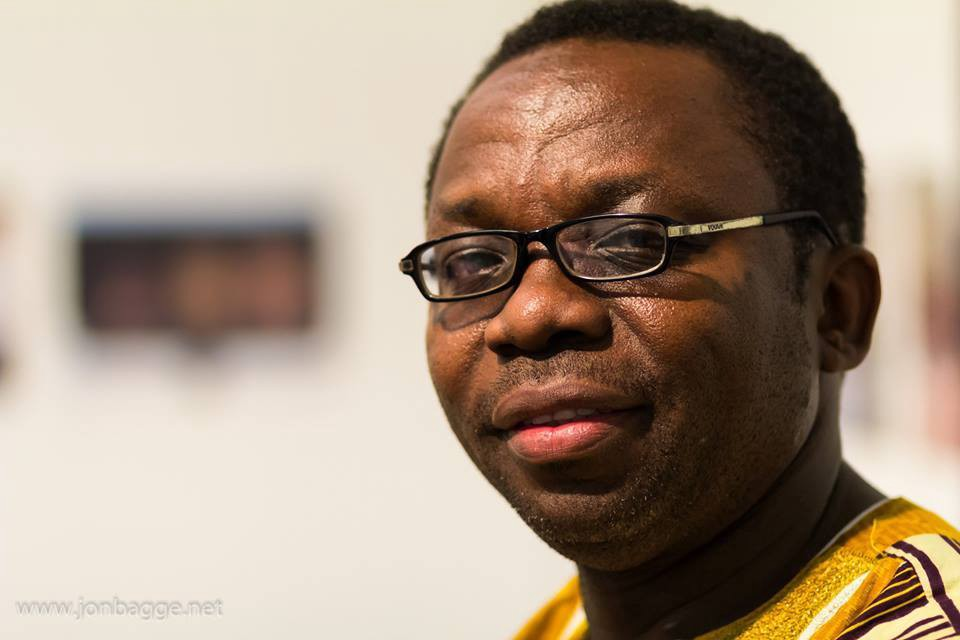person: (395, 1, 888, 557)
